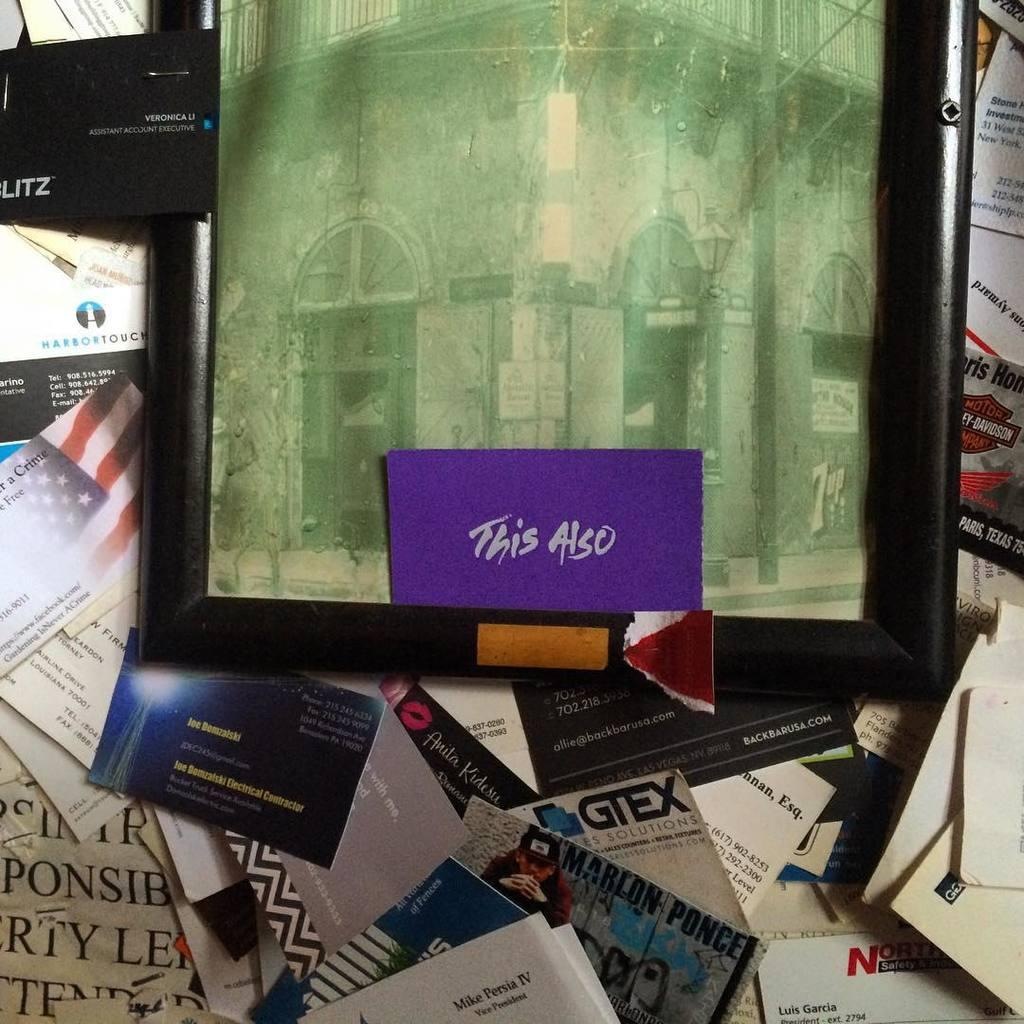Computer-monitor: (137, 0, 977, 699)
